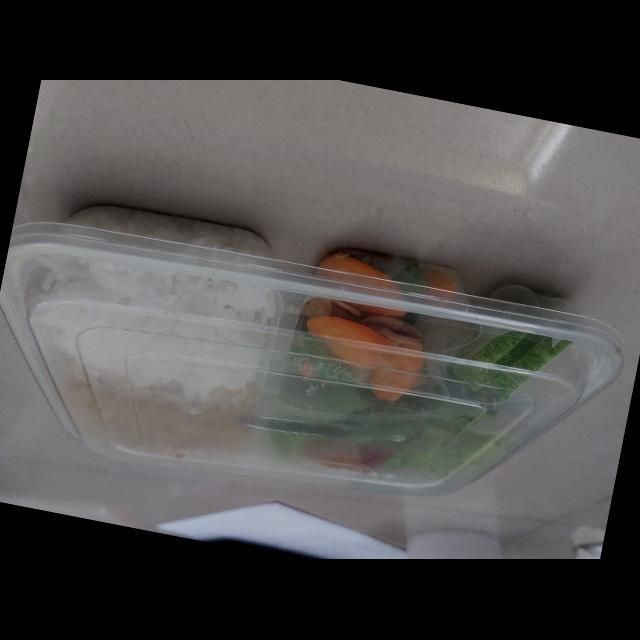bento: (2, 188, 634, 522)
